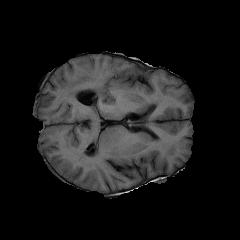glioma: (60, 70, 126, 110)
